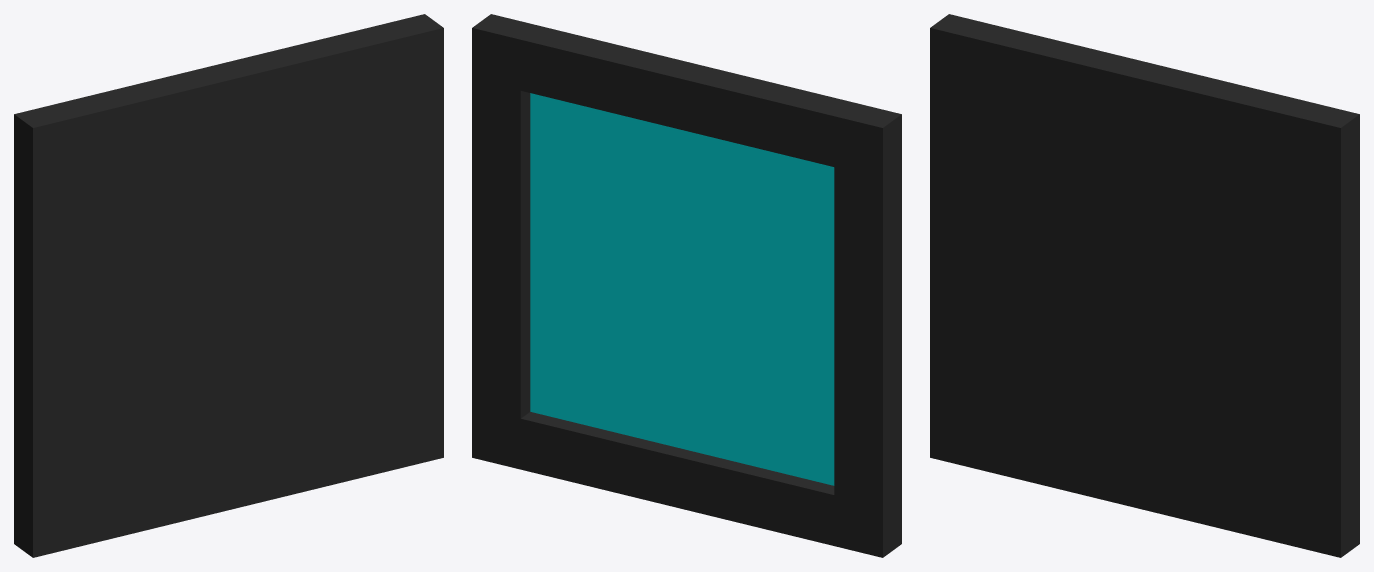
Rendered from MOD_MurE2.FBX.
The picture shows the model from 3 angles, left to right: view 1: azimuth 30°, elevation 25°; view 2: azimuth 150°, elevation 25°; view 3: azimuth 330°, elevation 25°; orthographic projection.
Parts seen in each view (by area): view 1: MOD_Murd; view 2: MOD_Murd; view 3: MOD_Murd.
Part boxes in pixels (left/top/right/bottom): MOD_Murd: left=14, top=14, right=443, bottom=557; MOD_Murd: left=472, top=14, right=901, bottom=557; MOD_Murd: left=930, top=14, right=1359, bottom=557.
Size of the model in its own units: 0.9528 by 0.9528 by 0.0762.
